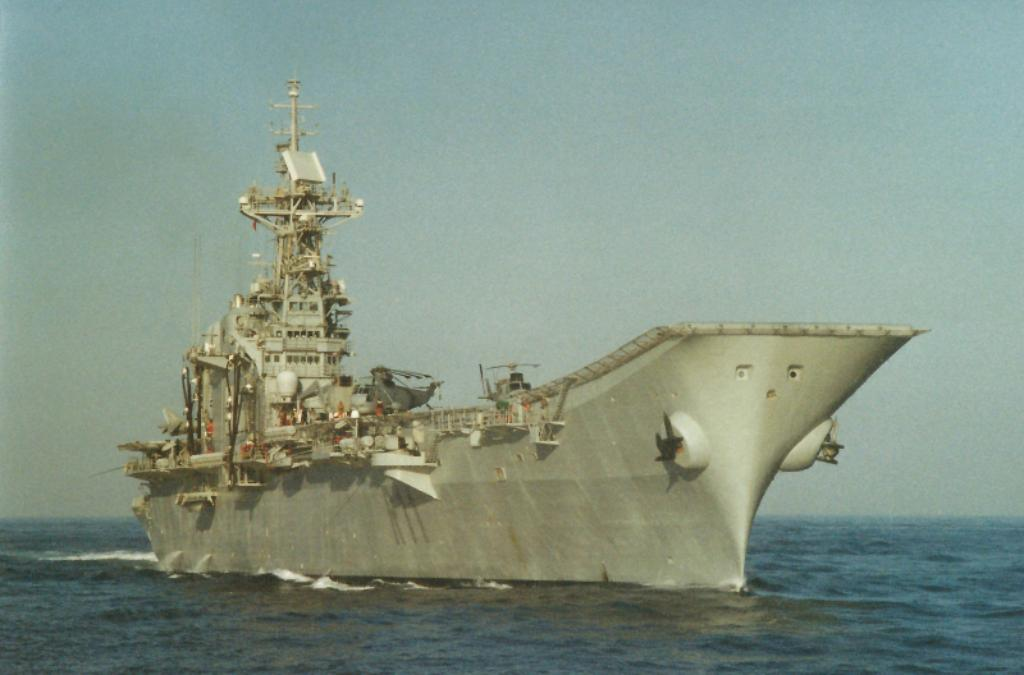Warship: (118, 70, 926, 600)
